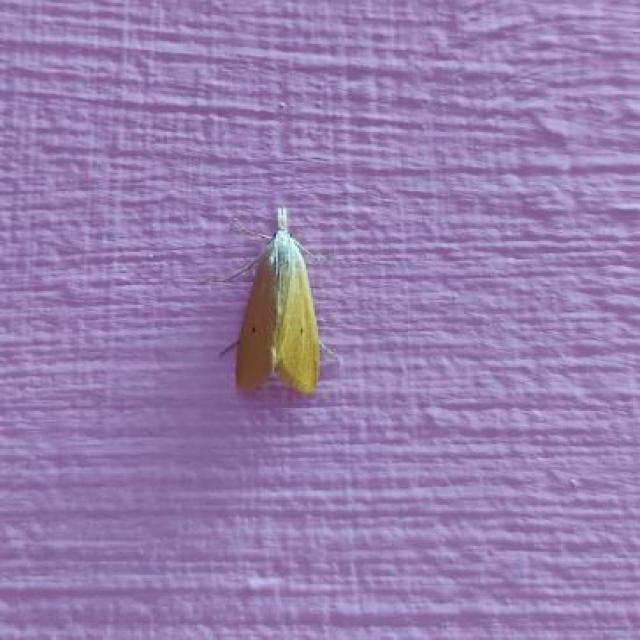rice stem borer -penggerek batang padi-: (216, 204, 327, 400)
